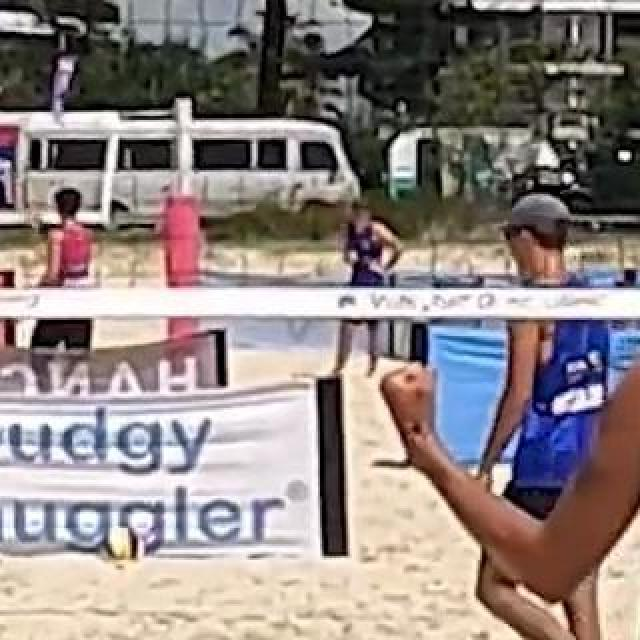volleyball: (102, 524, 144, 564)
